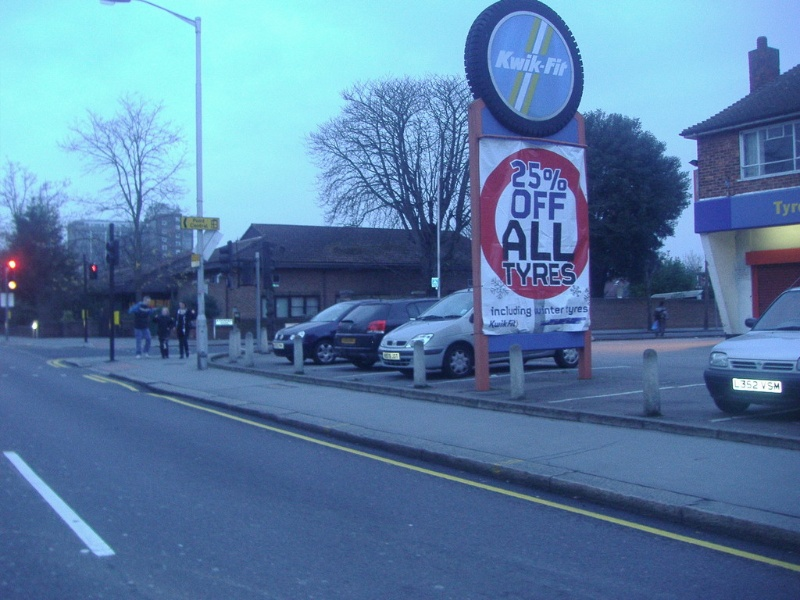red_light: (3, 252, 22, 283), (88, 259, 103, 289)
yellow_light: (3, 278, 23, 306)
